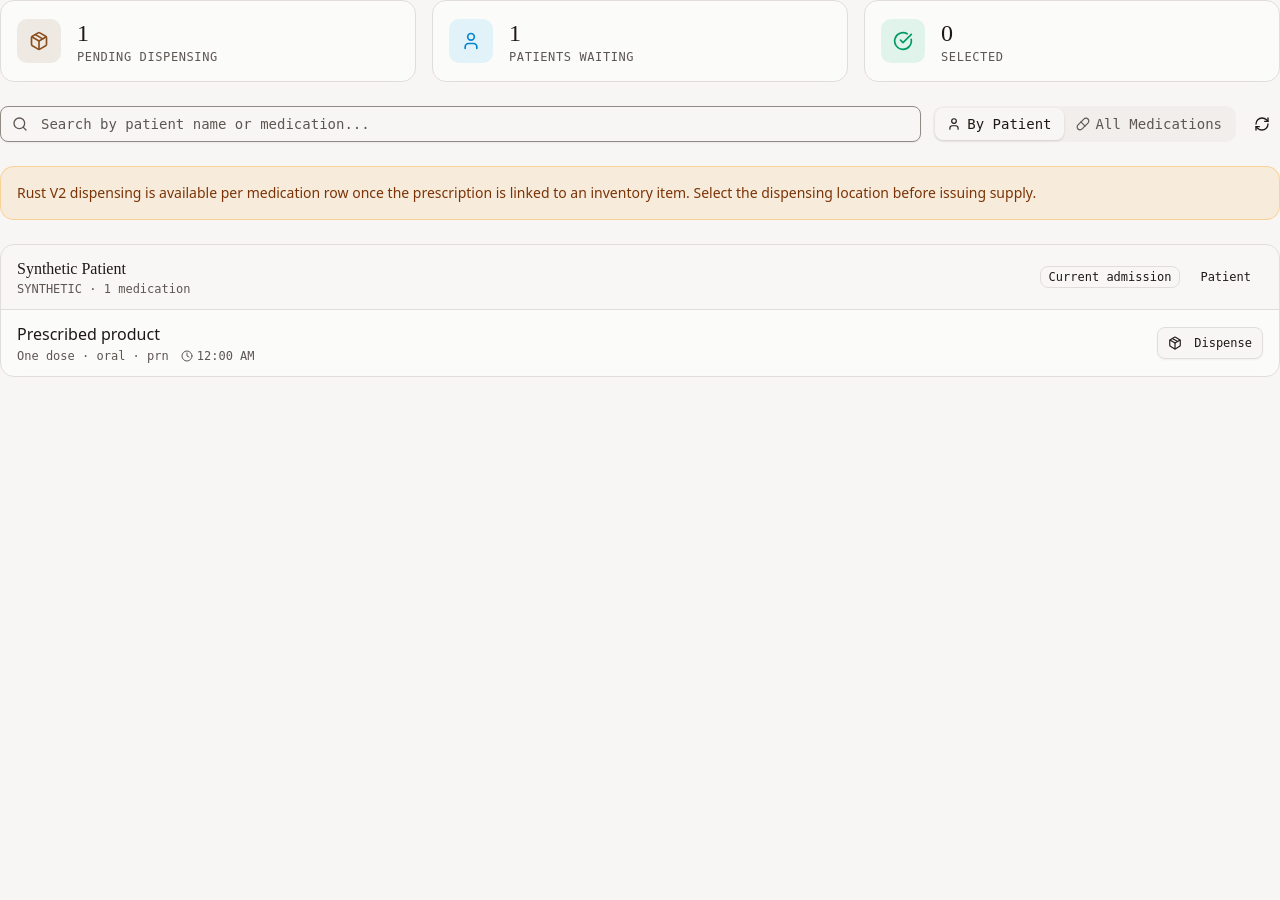
Test: real queue dispensing with named locations › keeps uncertain stock issue locked without automatic retry
The width and height of the screenshot is (1280, 900).
Click the button "Dispense": (1210, 343) [1157,327,1263,359]
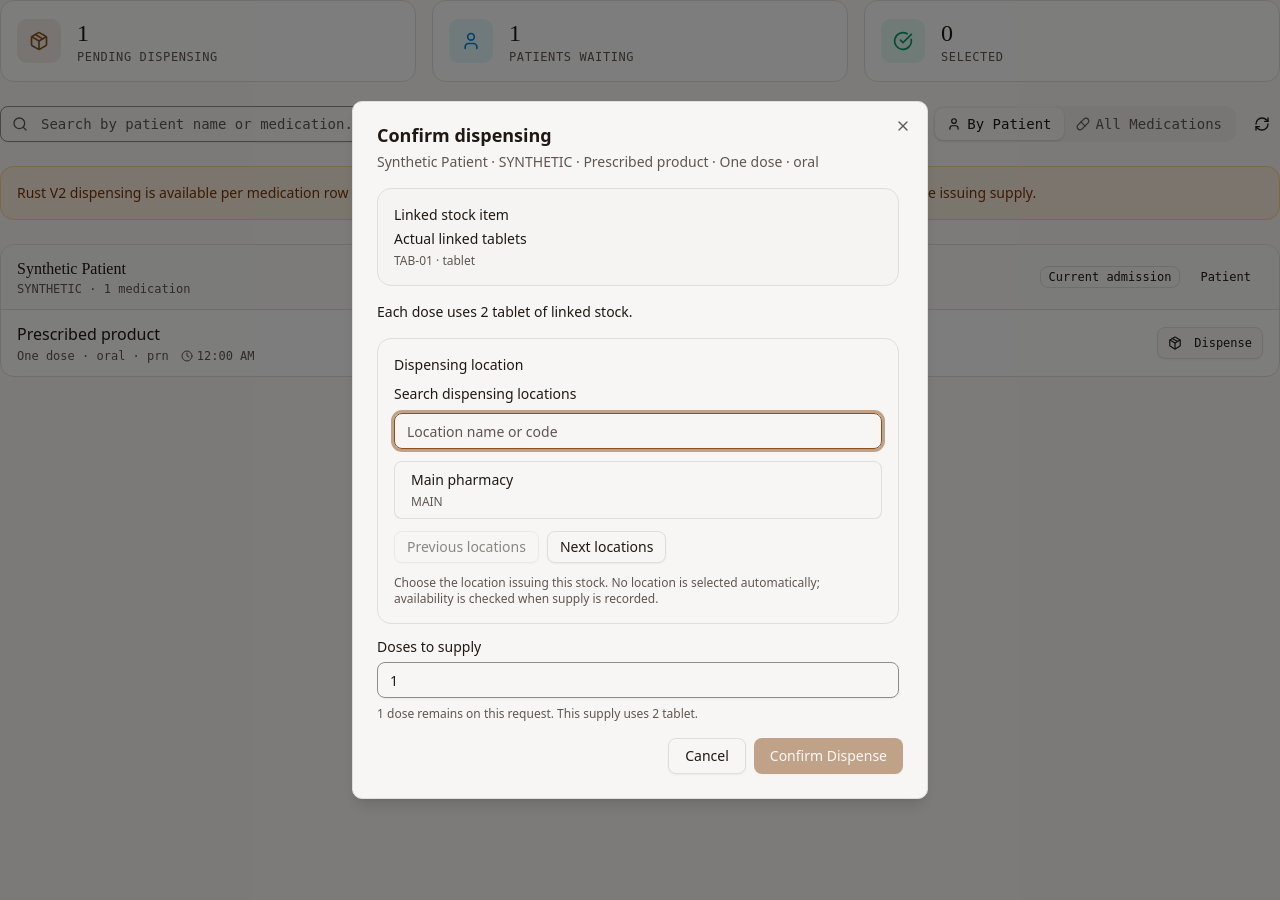
Click the button "Main pharmacy MAIN": (462, 480) [394,461,882,519]
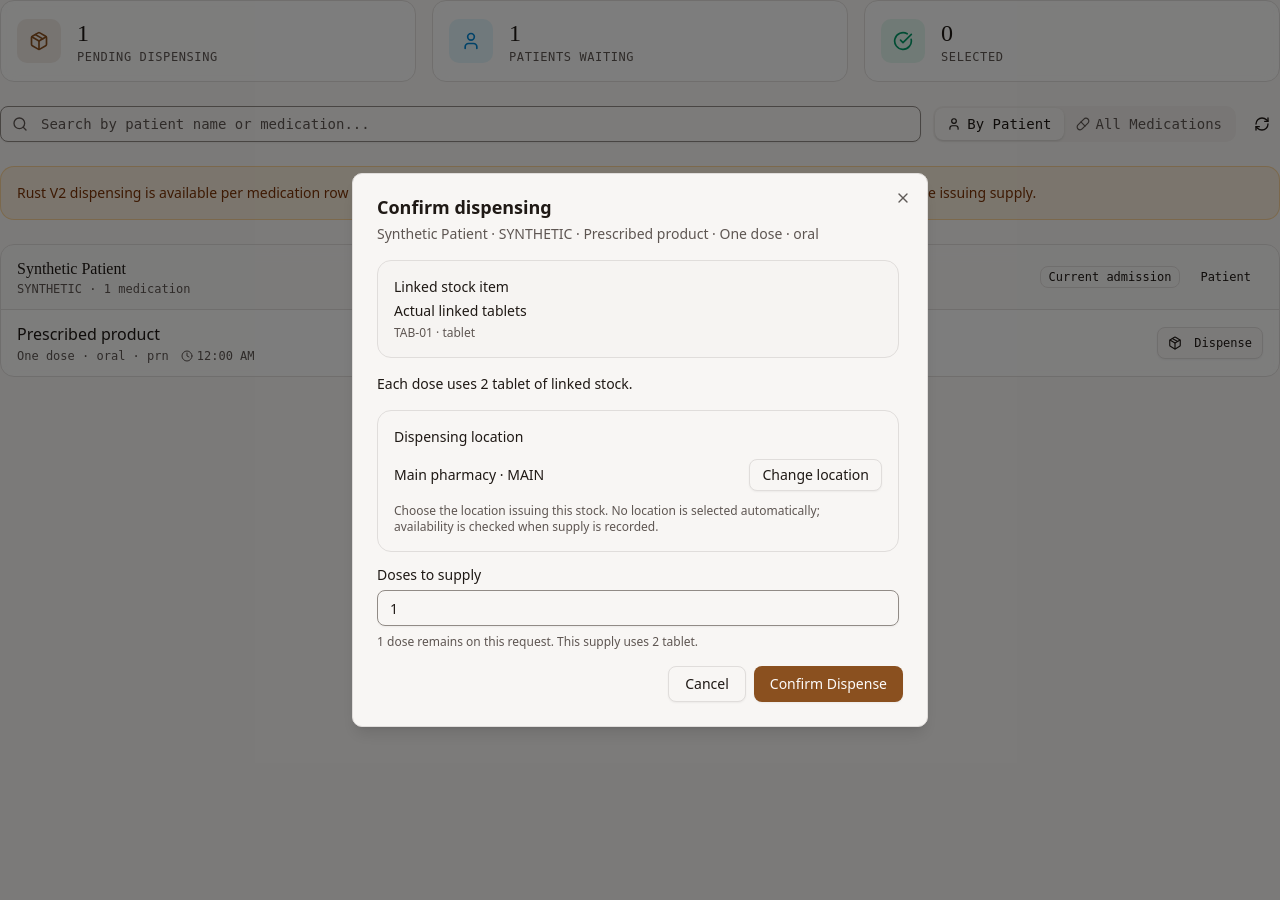
Click the button "Confirm Dispense": (828, 684) [754,666,903,702]
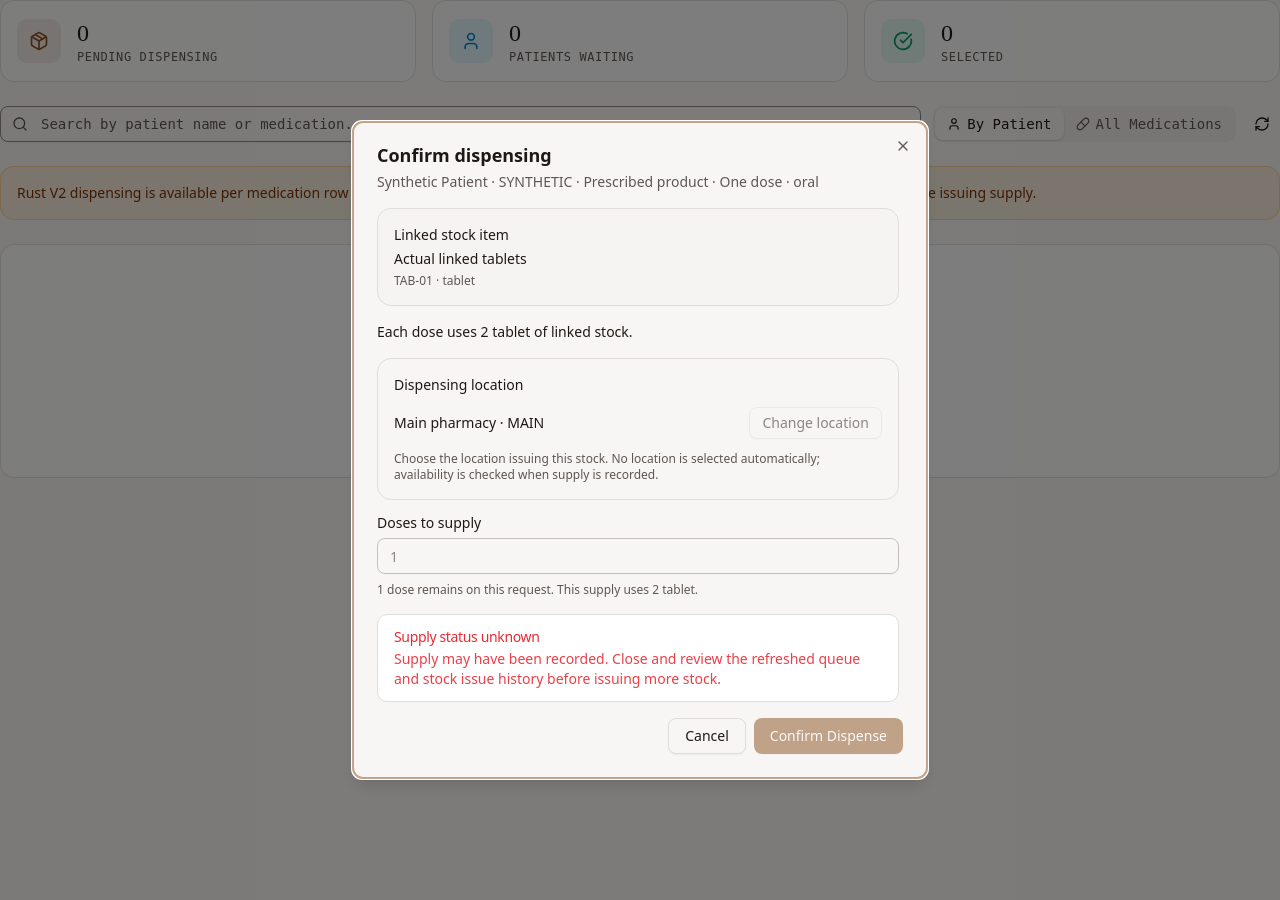
Result: the text "Supply status unknown" is shown at [394,627,540,646]
Result: the button "Confirm Dispense" is disabled at [754,718,903,754]
